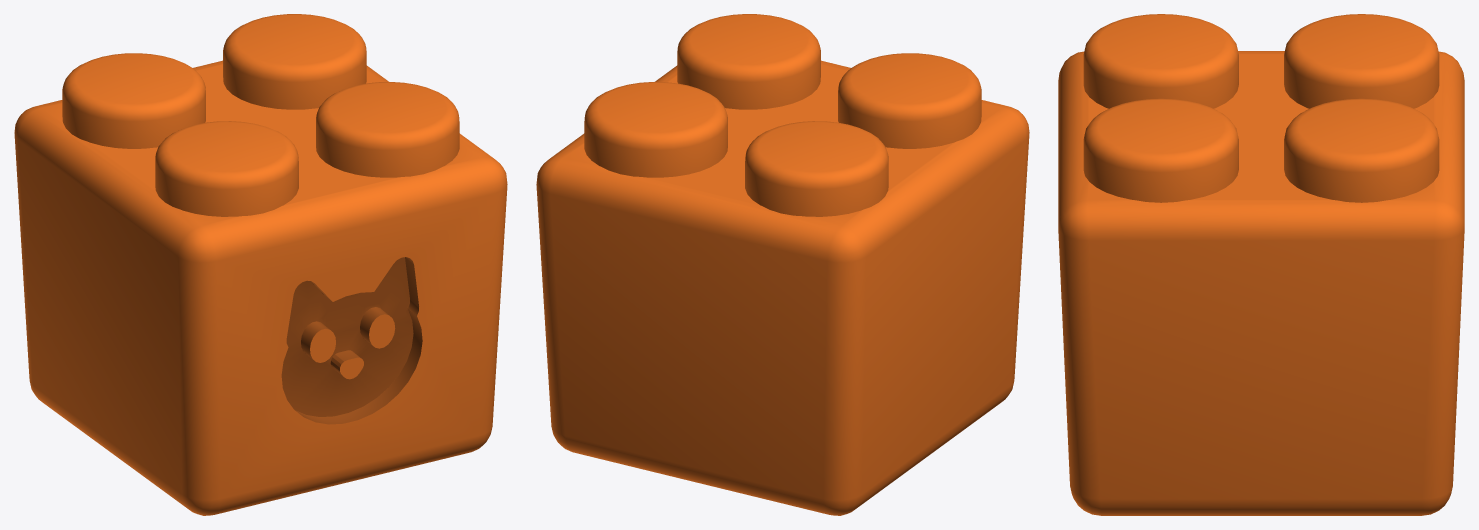
File: Block_Cat.fbx
3 renders of one model, left to right at view 1: azimuth 30°, elevation 25°; view 2: azimuth 150°, elevation 25°; view 3: azimuth 270°, elevation 25°, orthographic. The views are drawn at different scales.
Visible parts, largest first — view 1: Block_Cat; view 2: Block_Cat; view 3: Block_Cat.
Part boxes in pixels (x1,y1,x2,y2): Block_Cat: [14, 14, 507, 515]; Block_Cat: [536, 14, 1029, 515]; Block_Cat: [1058, 14, 1464, 515].
Size of the model in its own units: 99.39 by 97.5 by 99.39.
